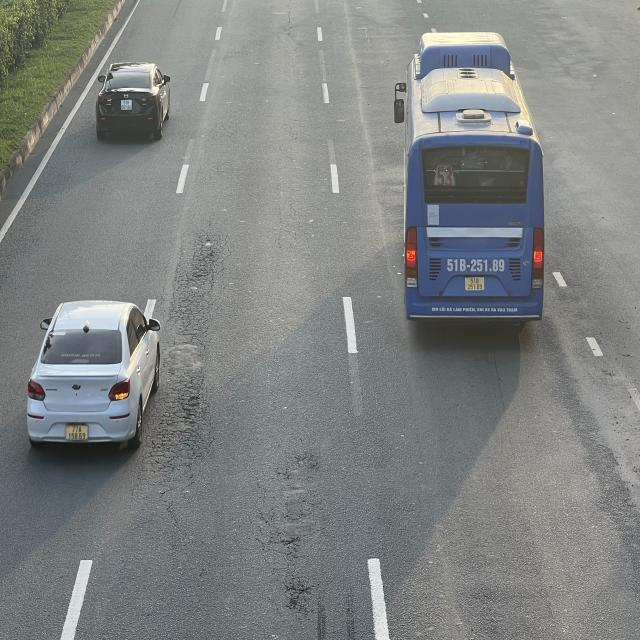car: (26, 298, 162, 453), (96, 61, 172, 140)
coach: (395, 28, 547, 325)
